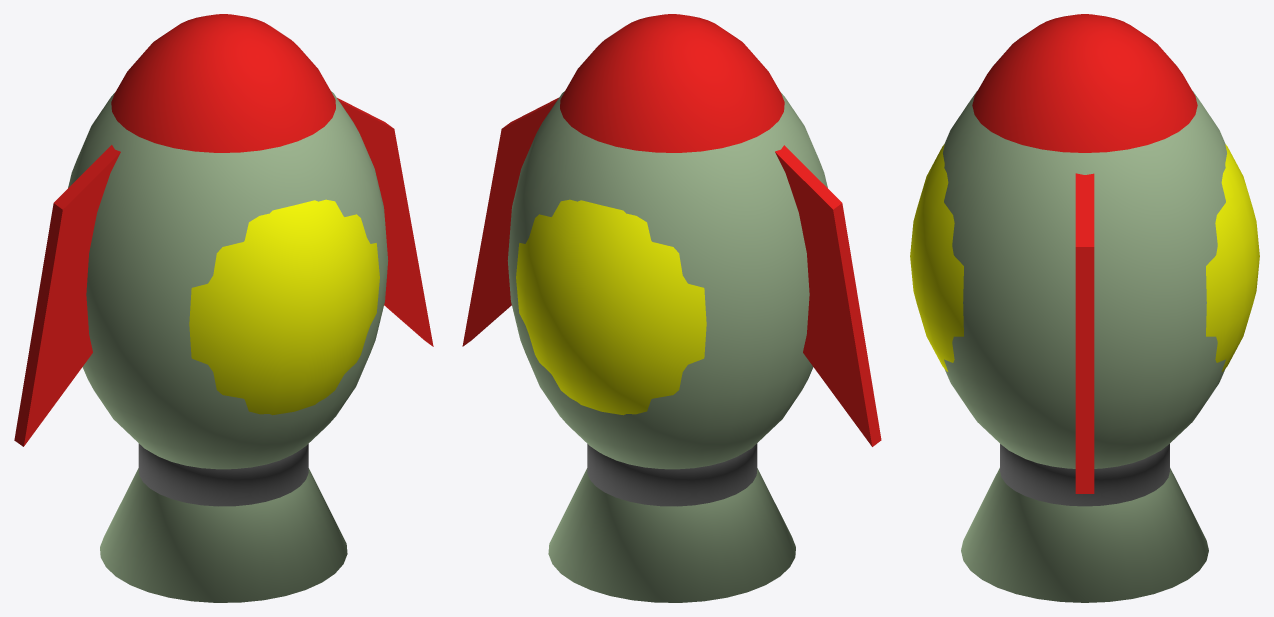
Rendered from nuke.fbx.
The picture shows the model from 3 angles, left to right: view 1: azimuth 30°, elevation 25°; view 2: azimuth 150°, elevation 25°; view 3: azimuth 270°, elevation 25°; orthographic projection.
Visible parts, largest first — view 1: Sphere.008, Sphere.010, Sphere.009, Cone.005, Cube.008, Cube.009, Cylinder.043; view 2: Sphere.008, Sphere.010, Sphere.009, Cone.005, Cube.008, Cube.009, Cylinder.043; view 3: Sphere.008, Sphere.009, Cone.005, Sphere.010, Cube.009, Cylinder.043.
Part boxes in pixels (bbox=[...]): Sphere.008: bbox=[68, 91, 388, 469]; Sphere.010: bbox=[189, 199, 379, 415]; Sphere.009: bbox=[111, 14, 335, 152]; Cone.005: bbox=[100, 468, 347, 602]; Cube.008: bbox=[14, 145, 120, 446]; Cube.009: bbox=[337, 98, 433, 346]; Cylinder.043: bbox=[138, 443, 308, 506]; Sphere.008: bbox=[507, 91, 827, 469]; Sphere.010: bbox=[516, 199, 706, 415]; Sphere.009: bbox=[560, 14, 784, 152]; Cone.005: bbox=[548, 468, 795, 602]; Cube.008: bbox=[775, 145, 881, 446]; Cube.009: bbox=[462, 97, 558, 346]; Cylinder.043: bbox=[587, 443, 757, 506]; Sphere.008: bbox=[943, 91, 1226, 468]; Sphere.009: bbox=[972, 14, 1197, 152]; Cone.005: bbox=[961, 468, 1208, 602]; Sphere.010: bbox=[910, 144, 1259, 371]; Cube.009: bbox=[1075, 173, 1094, 493]; Cylinder.043: bbox=[1000, 444, 1169, 506].
Size of the model in its own units: 144 by 177 by 106.
